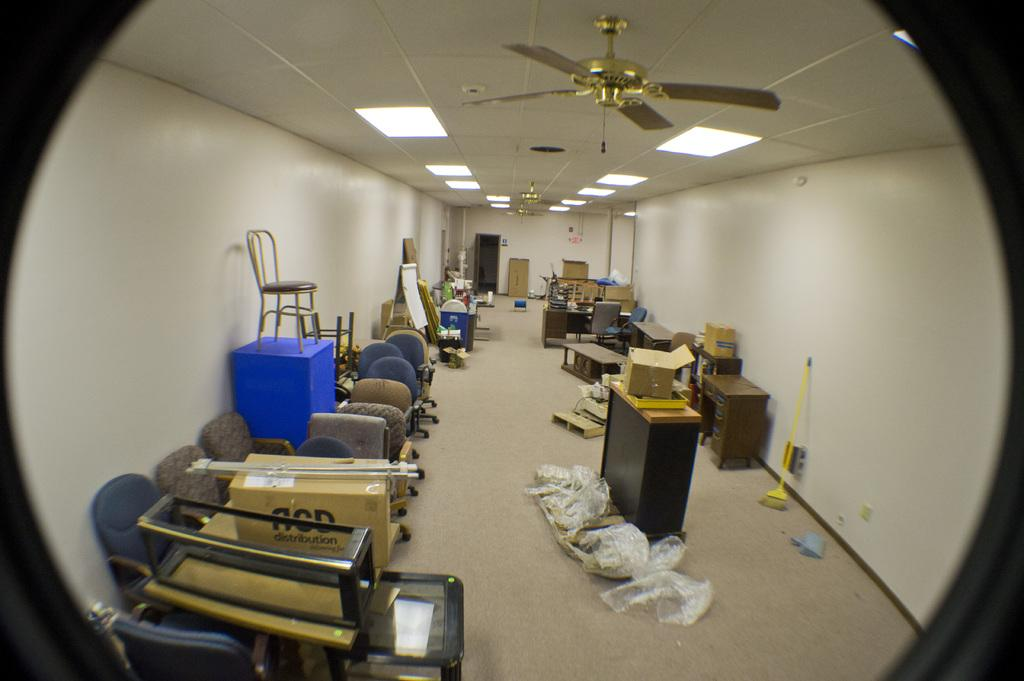Chair: (92, 468, 211, 602), (108, 597, 289, 680), (309, 413, 408, 541), (244, 224, 321, 353), (341, 403, 414, 518), (350, 377, 425, 482), (149, 445, 235, 529), (198, 411, 291, 487), (354, 343, 425, 438), (370, 357, 430, 454), (300, 308, 362, 386), (388, 334, 436, 432), (390, 331, 433, 389), (601, 306, 645, 350), (576, 302, 621, 343), (294, 438, 353, 461)
